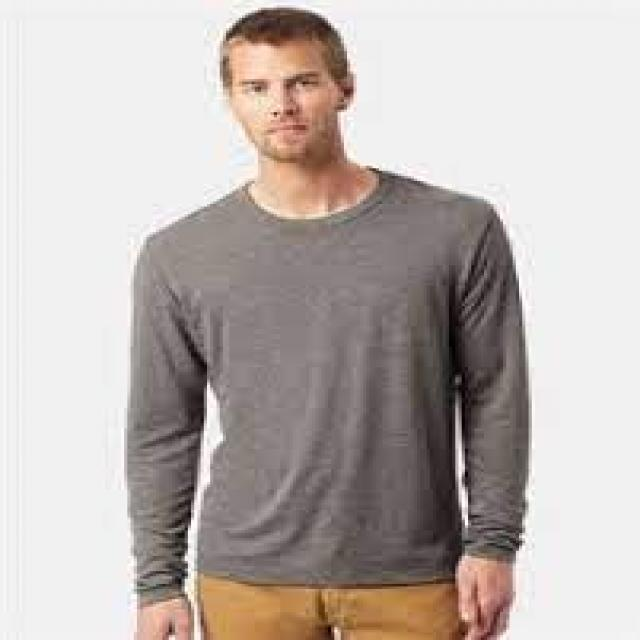plain: (134, 178, 534, 580)
